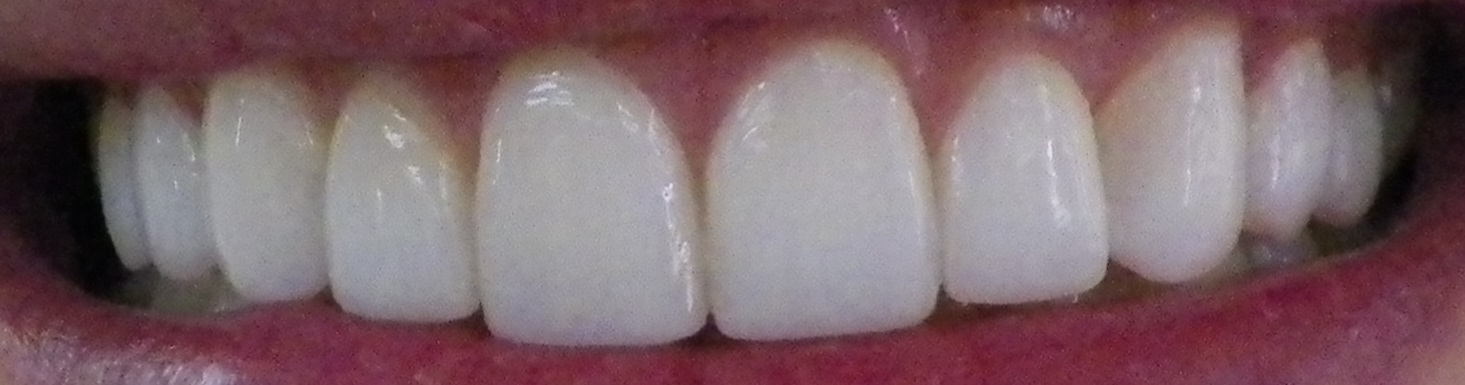boca: (88, 52, 1426, 341)
